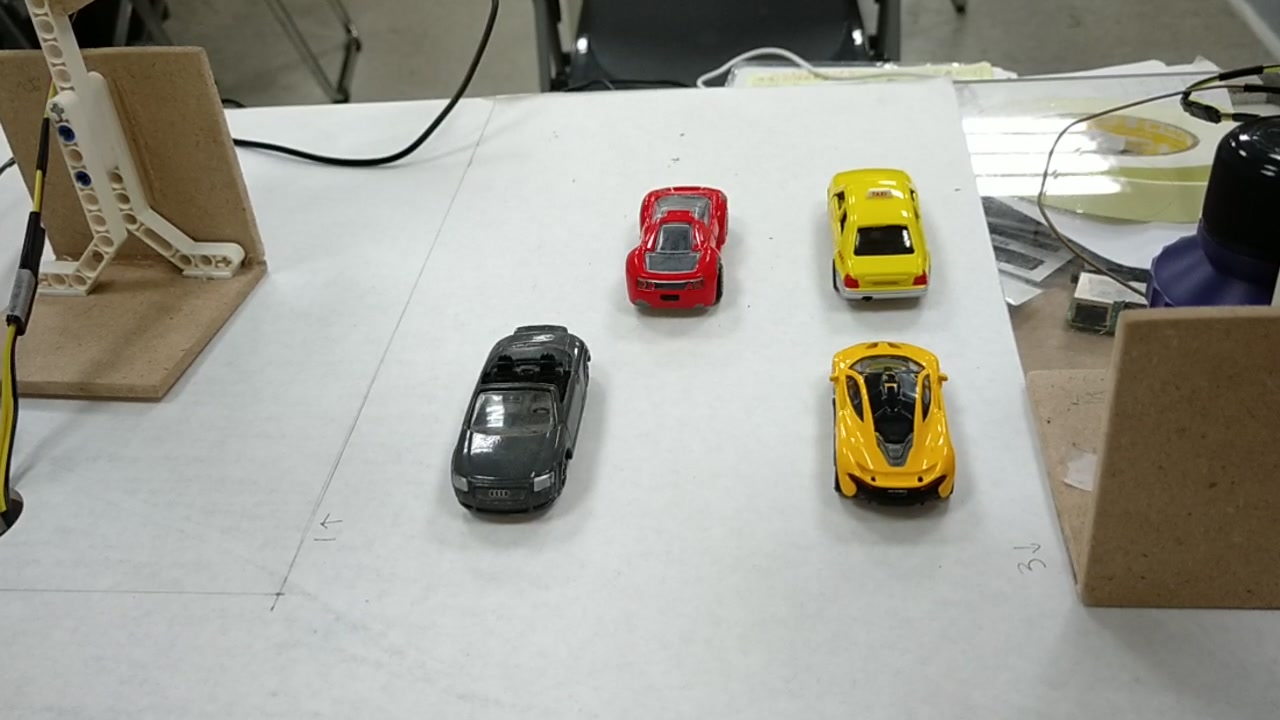car: (449, 337, 601, 519), (824, 351, 956, 504), (832, 164, 941, 297), (626, 178, 730, 317)
